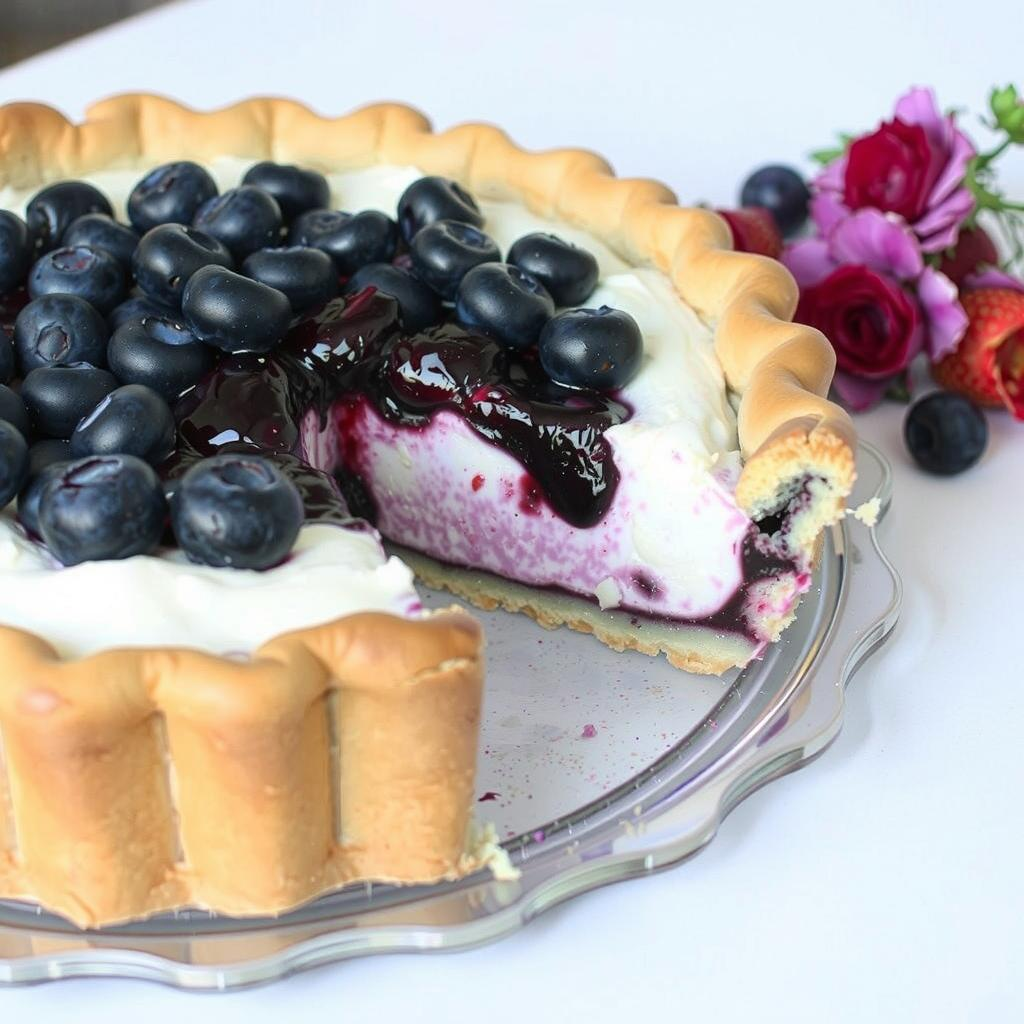pie: (0, 79, 884, 936)
